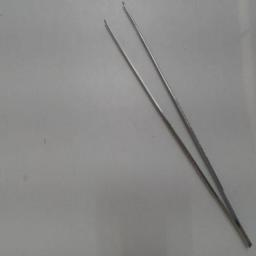DeBakey Dissector: (95, 2, 255, 250)
